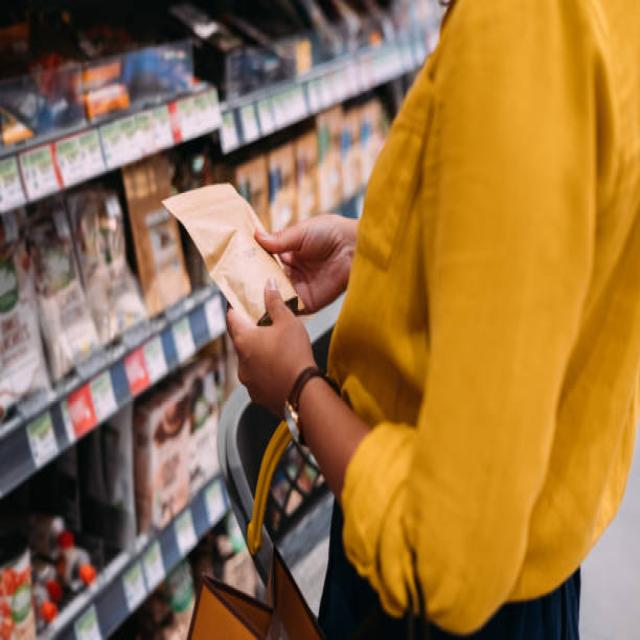article: (162, 184, 303, 323)
hands: (227, 279, 315, 417), (258, 215, 358, 309), (299, 378, 366, 500)
person: (227, 0, 639, 638)
